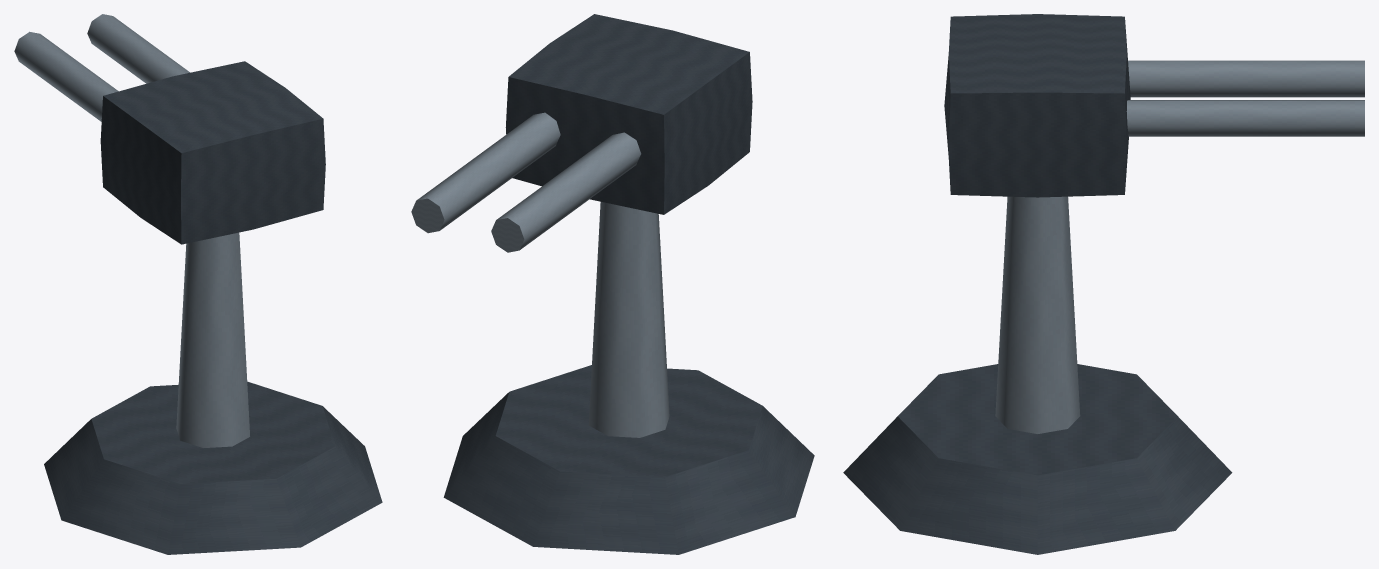
File: turret.lod2.glb
The picture shows the model from 3 angles, left to right: view 1: azimuth 30°, elevation 25°; view 2: azimuth 150°, elevation 25°; view 3: azimuth 270°, elevation 25°; orthographic projection. The views are drawn at different scales.
Parts seen in each view (by area): view 1: iron.0, iron.2, steel.1, steel.3, steel.4; view 2: iron.0, iron.2, steel.1, steel.3, steel.4; view 3: iron.0, iron.2, steel.1, steel.3, steel.4.
Part boxes in pixels (box(x1,y1,x2,y2)): iron.0: box(44, 381, 382, 554); iron.2: box(100, 61, 325, 244); steel.1: box(176, 232, 249, 447); steel.3: box(14, 31, 118, 121); steel.4: box(87, 14, 189, 83); iron.0: box(443, 365, 814, 554); iron.2: box(505, 14, 752, 214); steel.1: box(588, 202, 669, 437); steel.3: box(491, 132, 641, 252); steel.4: box(411, 112, 560, 233); iron.0: box(843, 364, 1232, 554); iron.2: box(944, 14, 1130, 197); steel.1: box(995, 196, 1080, 433); steel.3: box(1128, 60, 1364, 97); steel.4: box(1126, 100, 1364, 136).
Size of the model in its own units: 0.5 by 0.6 by 0.67.
2 materials, 2 textured.
